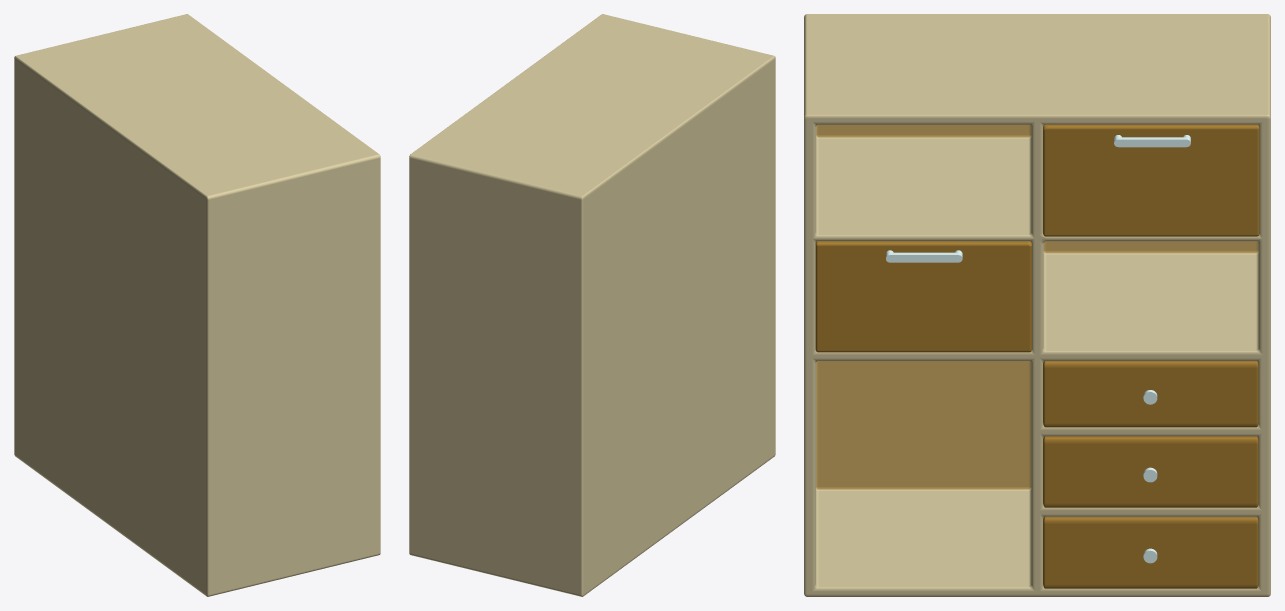
Rendered from Rack.fbx.
3 renders of one model, left to right at view 1: azimuth 30°, elevation 25°; view 2: azimuth 150°, elevation 25°; view 3: azimuth 270°, elevation 25°, orthographic. The views are drawn at different scales.
Parts seen in each view (by area): view 1: Cube; view 2: Cube; view 3: Cube, Cylinder.005, Cylinder.004, Cylinder.003, Cylinder.002, Cylinder.001.
Boxes of the visible parts, x1,y1,x2,y2 form: Cube: (14, 14, 380, 596); Cube: (409, 14, 775, 596); Cube: (804, 14, 1270, 596); Cylinder.005: (1043, 124, 1259, 236); Cylinder.004: (815, 241, 1031, 352); Cylinder.003: (1043, 517, 1258, 588); Cylinder.002: (1043, 436, 1258, 507); Cylinder.001: (1043, 361, 1258, 427).
Size of the model in its own units: 231 by 479 by 421.
